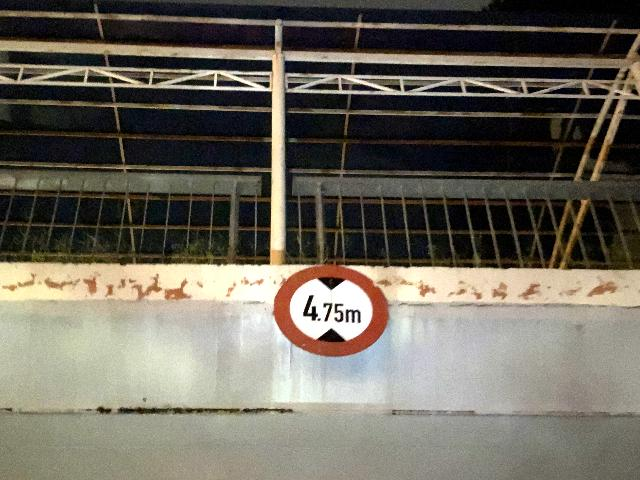han-che-chieu-cao: (272, 263, 390, 358)
